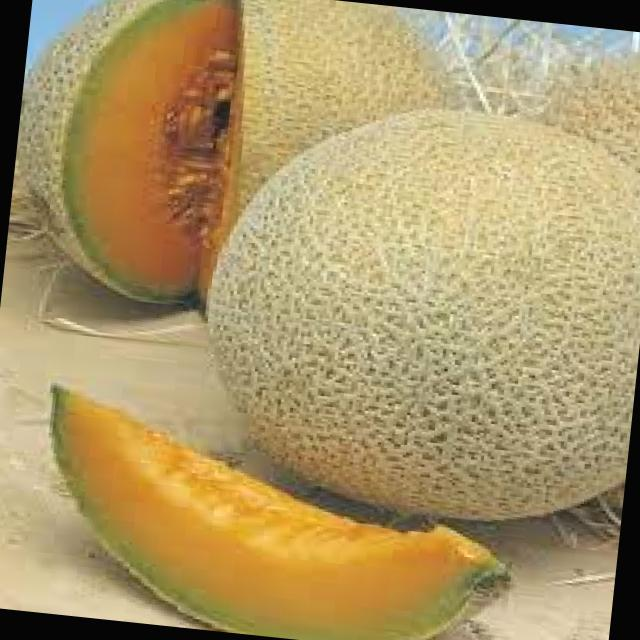cantaloupe: (191, 89, 640, 536), (4, 0, 442, 329), (30, 383, 527, 640)
